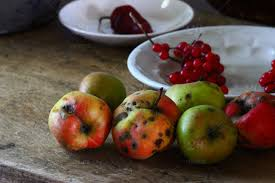damaged_apple: (111, 92, 182, 161), (174, 108, 241, 165), (49, 94, 111, 153), (162, 83, 226, 115)
